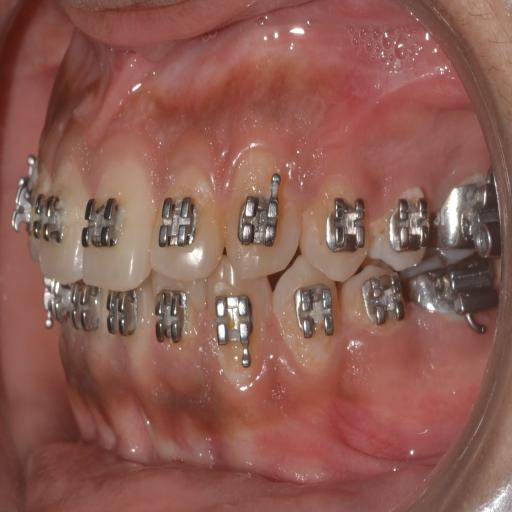correct_brace: (302, 166, 370, 288), (233, 169, 288, 254), (152, 190, 202, 252), (82, 194, 128, 250)
incorrect_brace: (152, 155, 223, 286), (322, 194, 367, 259)
